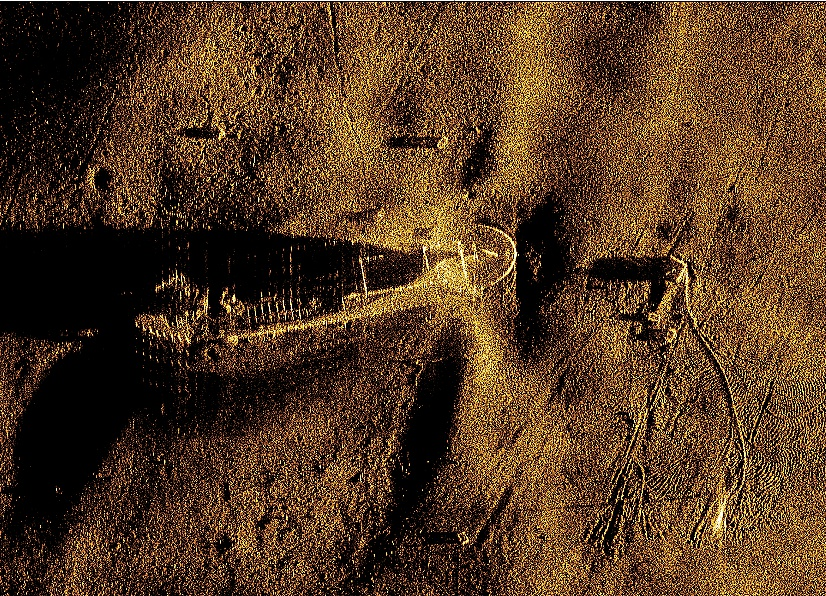ship: (132, 221, 519, 349)
